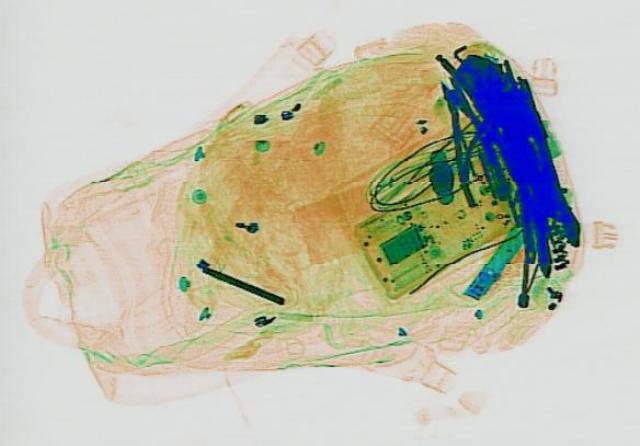Pliers: (420, 74, 516, 205)
